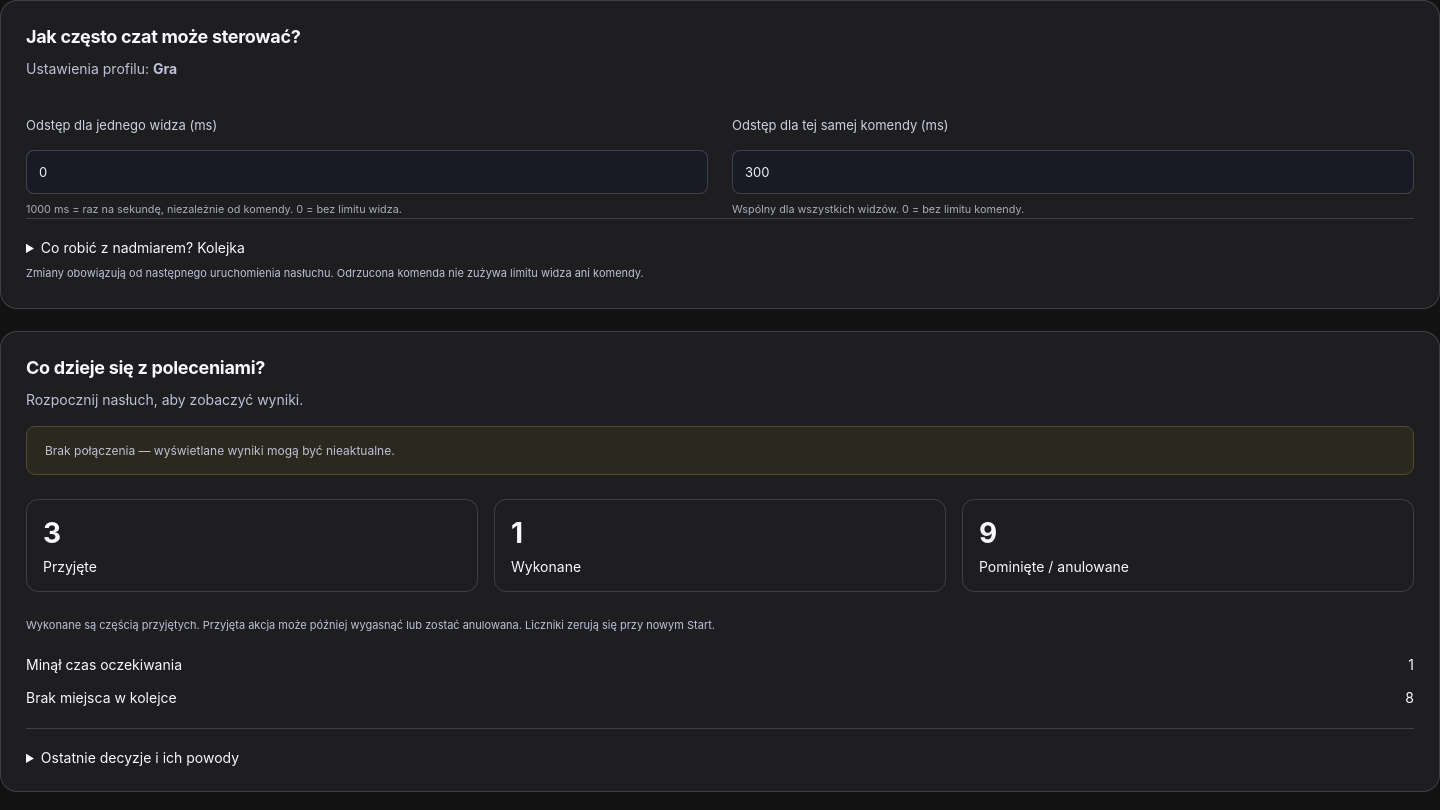
separates admission and actual execution and explains skips
Expected: the text "3" is shown, x1=43 y1=516 x2=61 y2=550
Expected: the text "9" is shown, x1=979 y1=516 x2=997 y2=550
Step 1. Click the heading "Ostatnie decyzje i ich powody" → (140, 758), box x1=41 y1=749 x2=239 y2=766
(page scrolled)
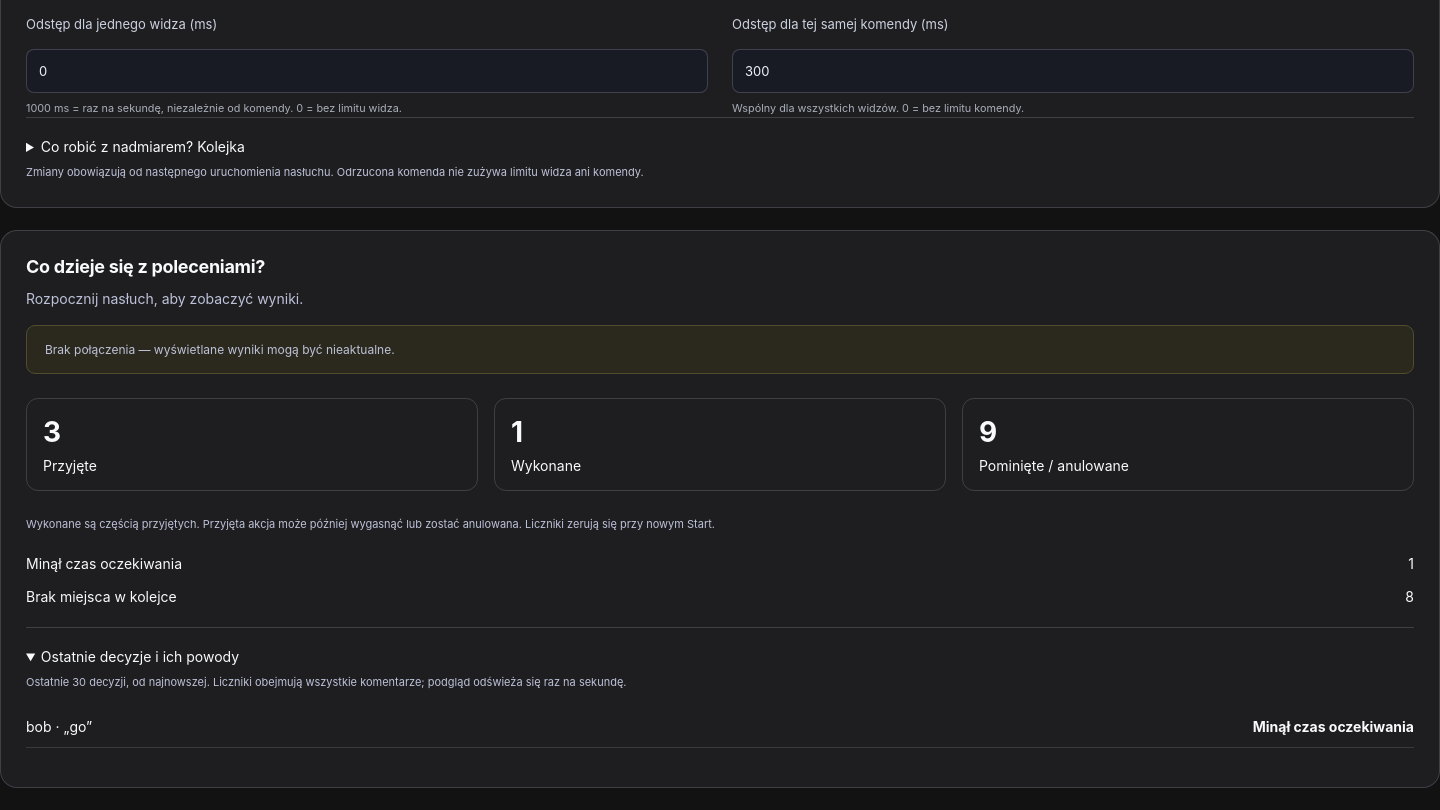
Expected: the text "go" is shown, x1=64 y1=718 x2=92 y2=735
